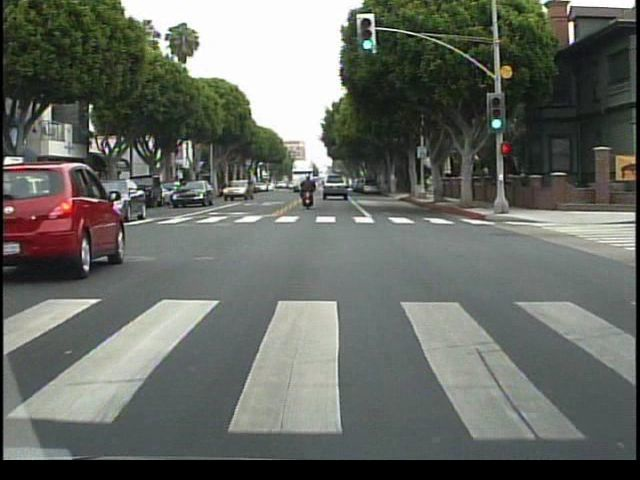person: (299, 175, 319, 217)
